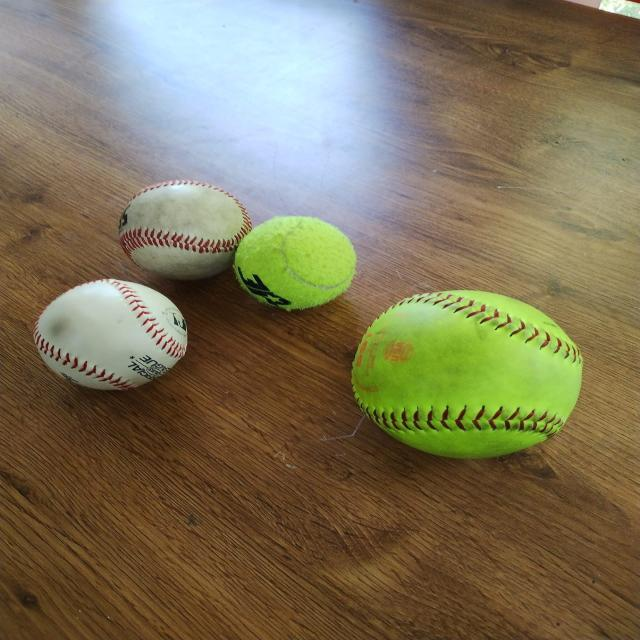beisbol ball: (31, 278, 190, 390), (116, 180, 252, 280)
softball ball: (352, 292, 586, 456)
tenis ball: (231, 214, 360, 311)
